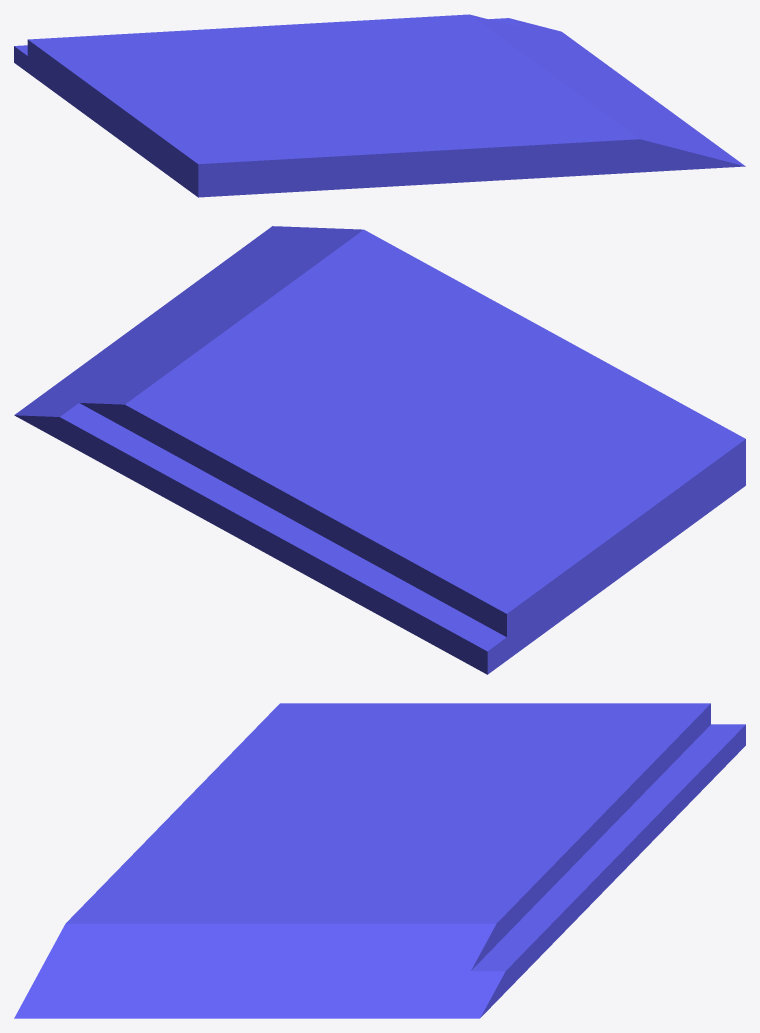
File: original-80.obj
3 renders of one model, top to bottom at view 1: azimuth 30°, elevation 25°; view 2: azimuth 150°, elevation 25°; view 3: azimuth 270°, elevation 25°, orthographic. The views are drawn at different scales.
Visible parts, largest first — view 1: #ID80; view 2: #ID80; view 3: #ID80.
Part boxes in pixels (left/top/right/bottom): #ID80: left=14, top=14, right=745, bottom=197; #ID80: left=14, top=226, right=745, bottom=674; #ID80: left=14, top=703, right=745, bottom=1018.
Size of the model in its own units: 0.1674 by 0.012 by 0.1896.
